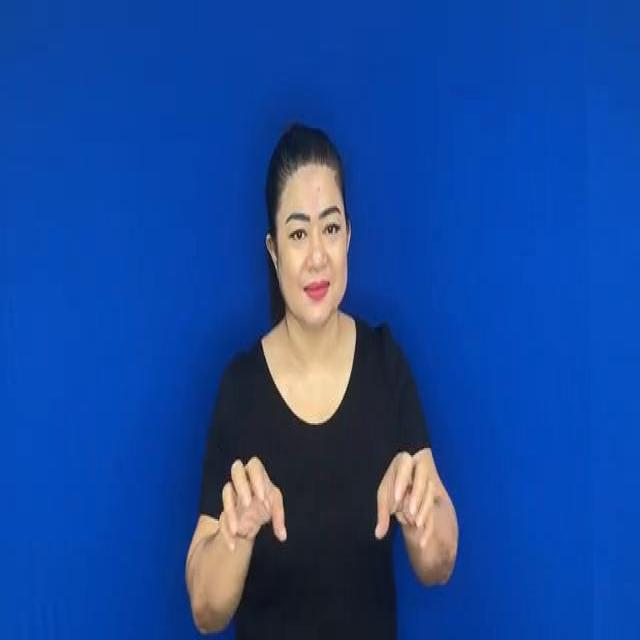egg: (203, 418, 447, 564)
